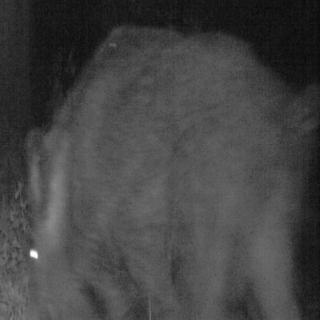Pig: (16, 21, 320, 308)
